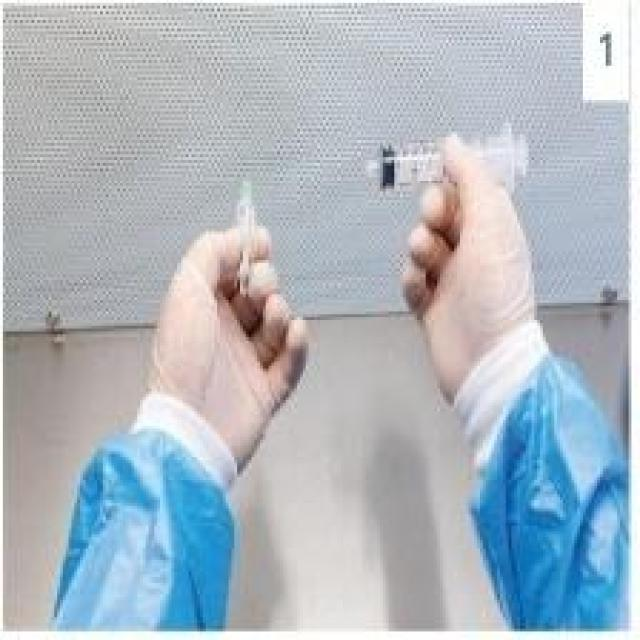syringe: (339, 133, 576, 228), (212, 179, 287, 306)
